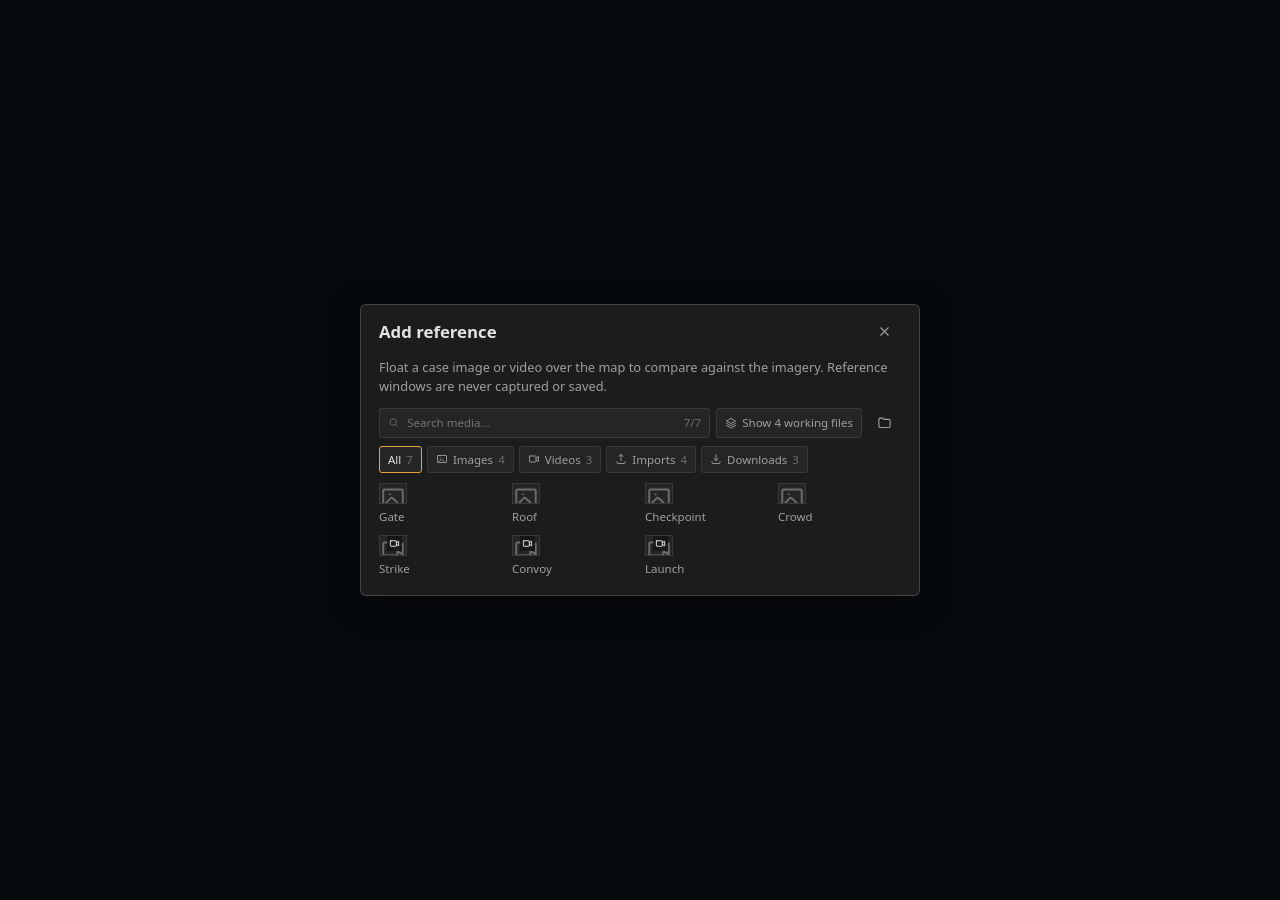
it: a long case › searches inside the chip, and says when only held-back files match
Click the button with class "ref-chip" showing "Images 4" at (470, 459), box x1=427 y1=446 x2=514 y2=473
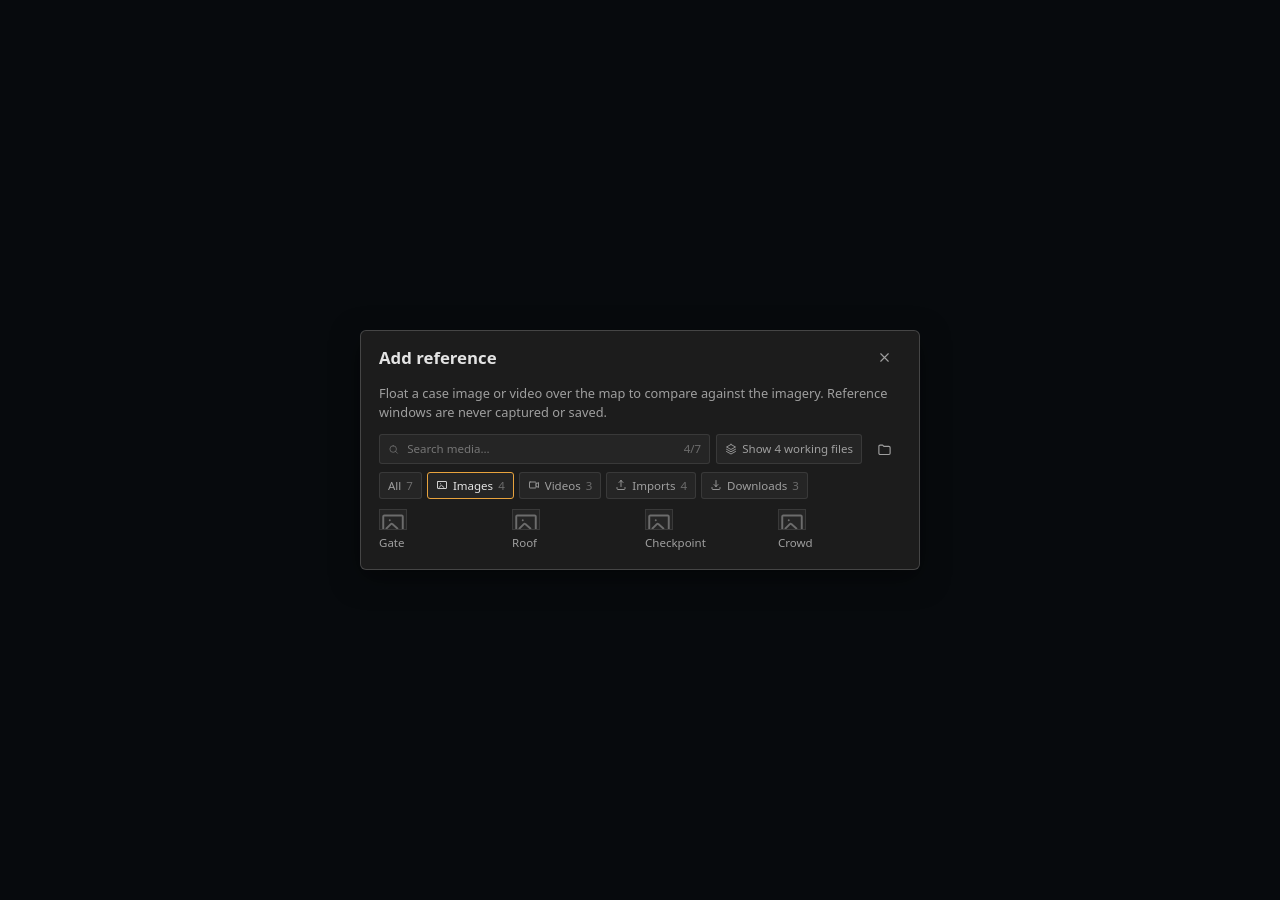
Type "roof" into the field with class "search-input" at (542, 449), box x1=405 y1=439 x2=678 y2=459
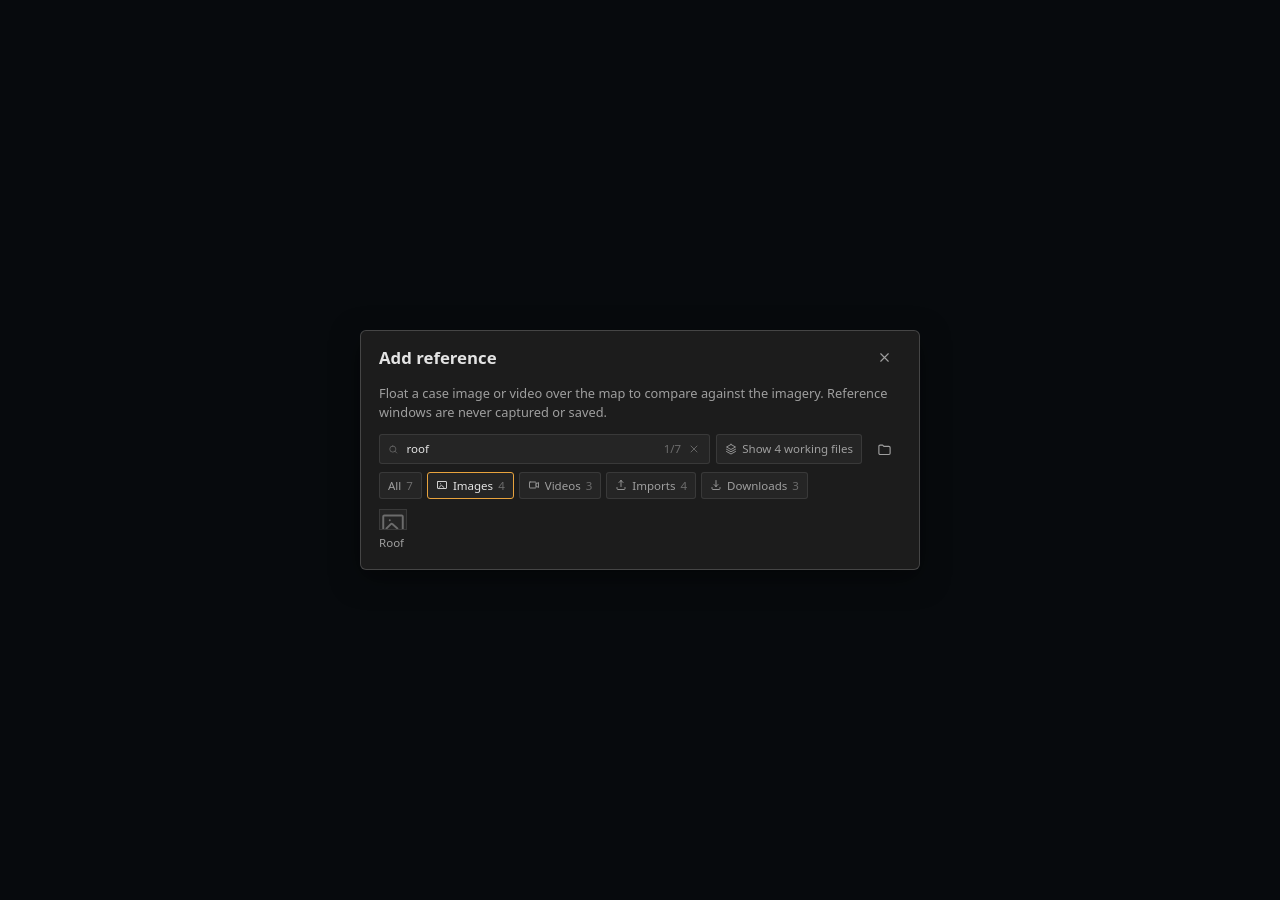
Click the button with class "ref-chip" showing "All 7" at (400, 485), box x1=379 y1=472 x2=422 y2=499
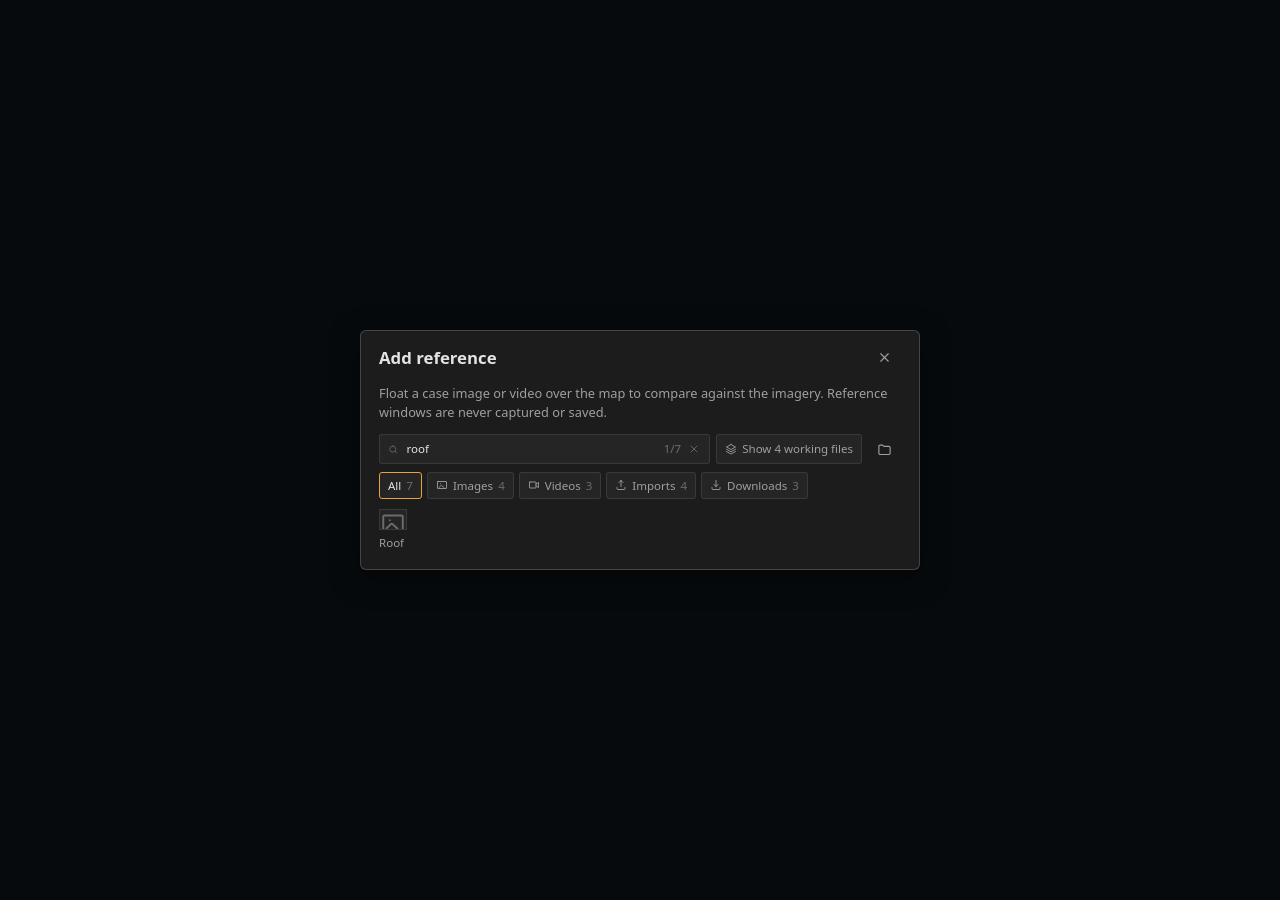
Replace the text in the field with class "search-input" with "comparison" at (531, 449), box x1=404 y1=439 x2=658 y2=459
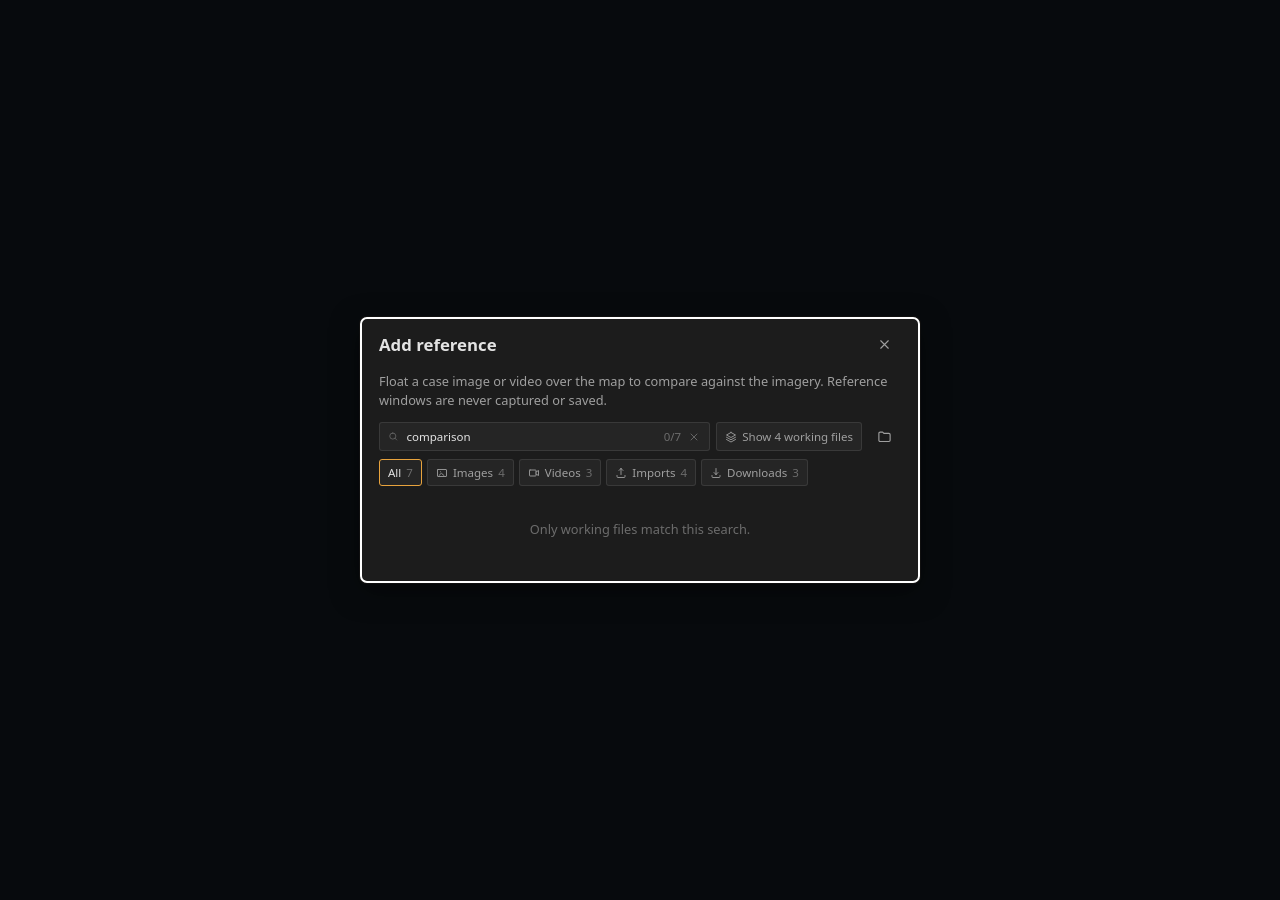
Now the text "Only working files match this search." is shown, box x1=530 y1=520 x2=750 y2=538
